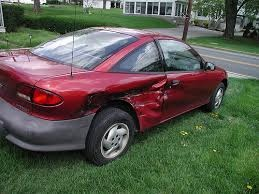Dent: (122, 77, 169, 122), (81, 90, 106, 118)
